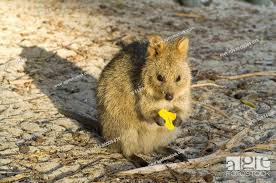quokka: (81, 25, 210, 170)
